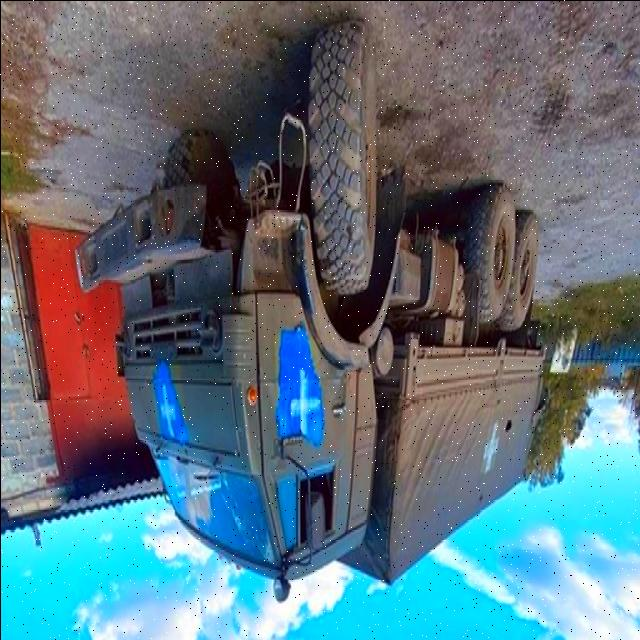TRUCK: (71, 16, 545, 604)
